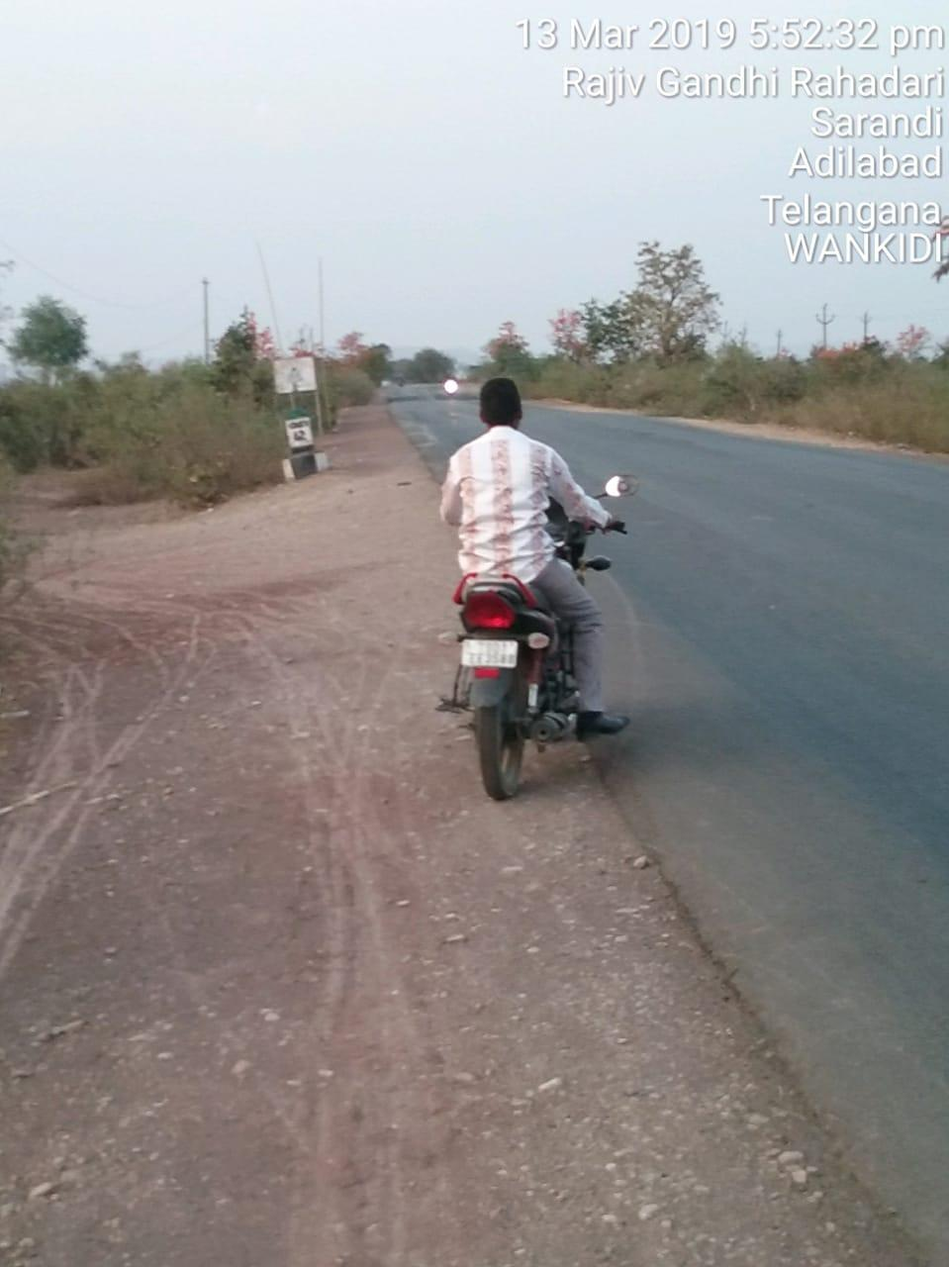plate: (453, 634, 524, 674)
